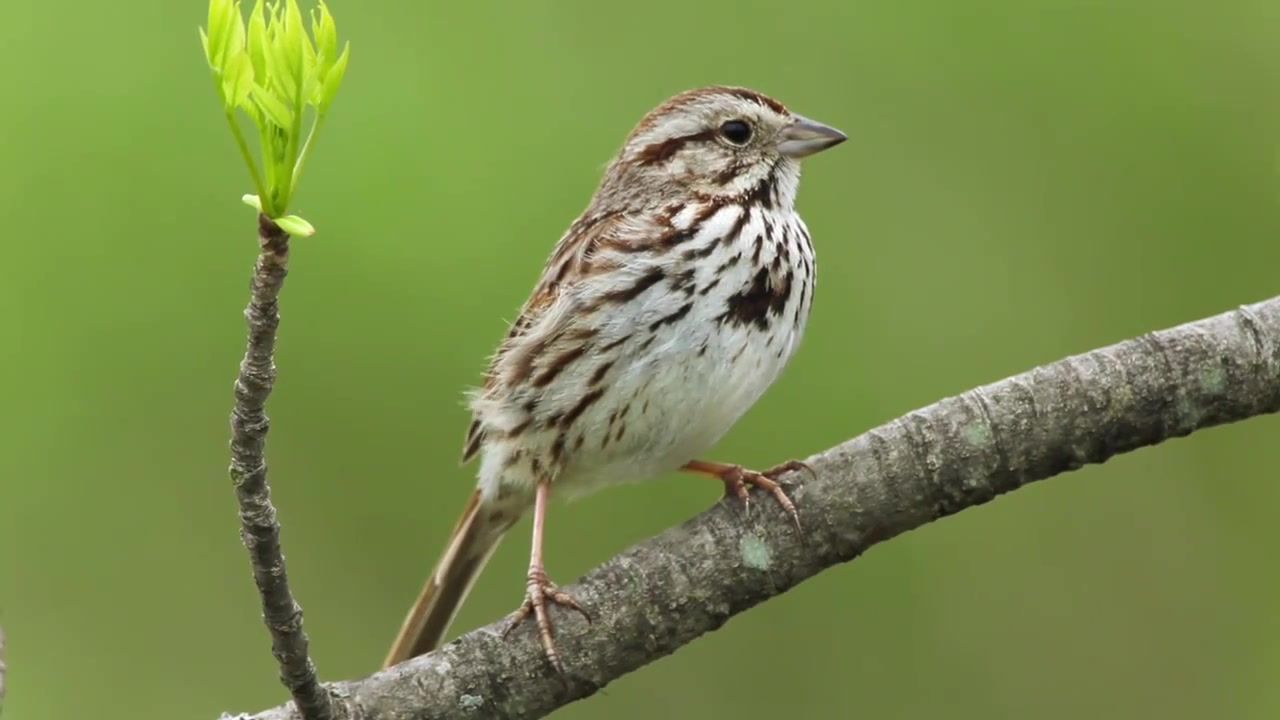bird: (377, 81, 849, 677)
